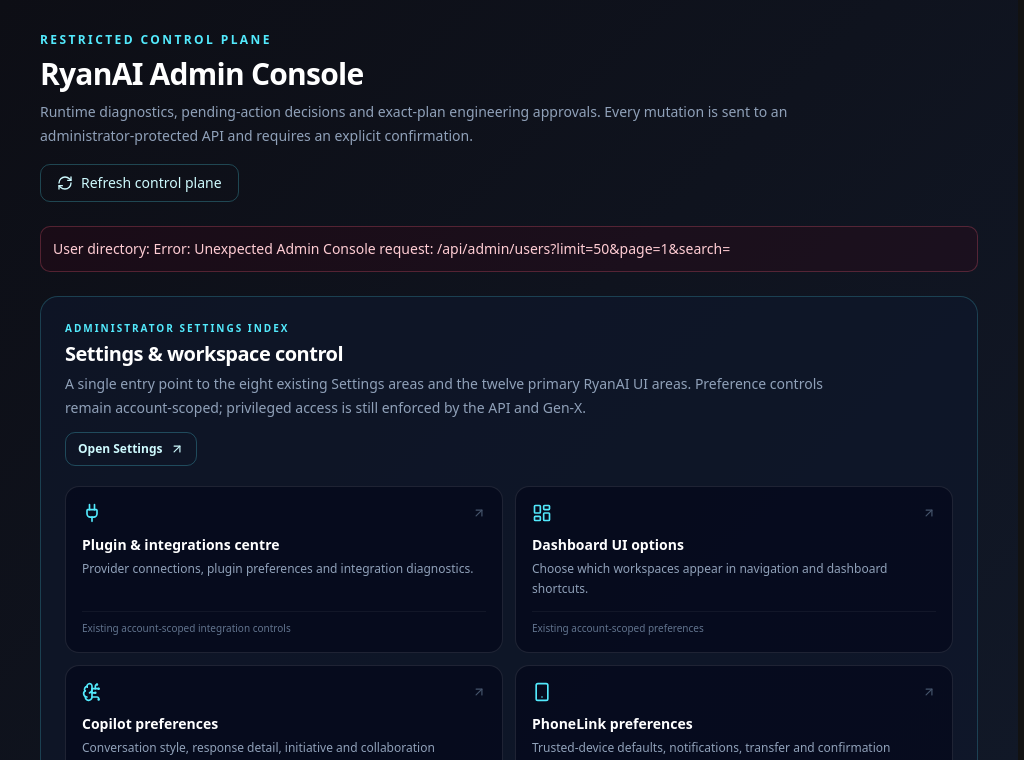
Test: Admin Console request ownership › retains last-known queue items but disables decisions after a failed refresh
Step 1. Click the button "Refresh control plane" → (139, 183), box [40, 164, 239, 202]
(page scrolled)
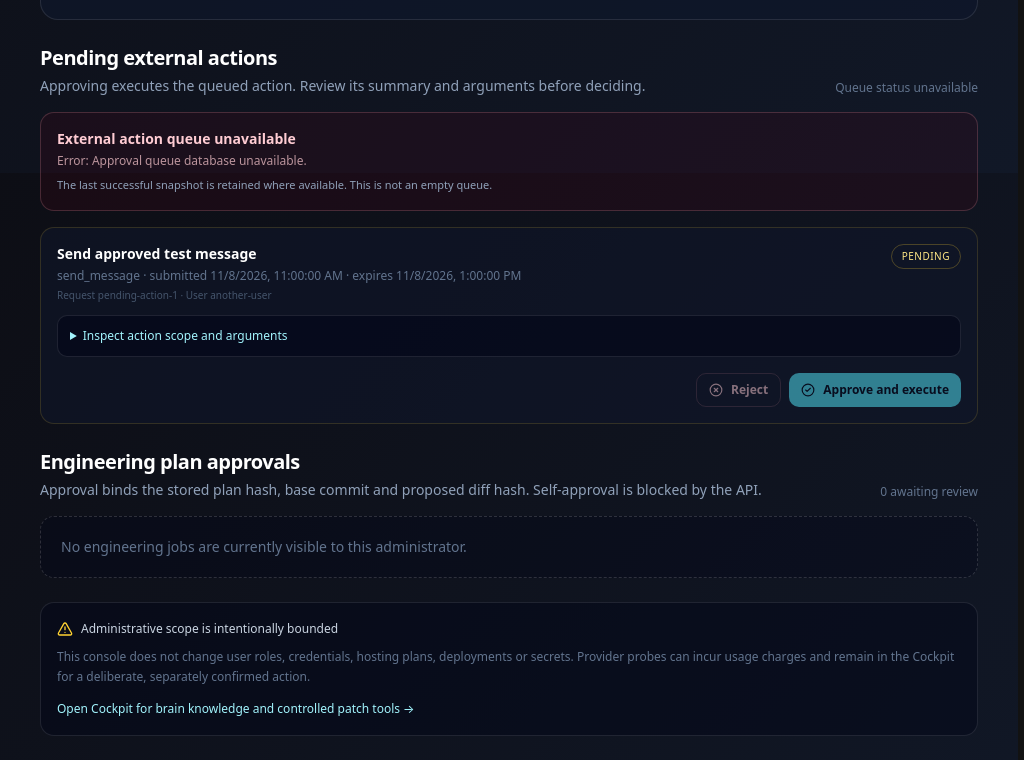
Expected: the text "Send approved test message" is shown, [57, 244, 257, 262]
Expected: the text "External action queue unavailable" is shown, [57, 129, 296, 148]
Expected: the button "Approve and execute" is disabled, [789, 372, 961, 406]
